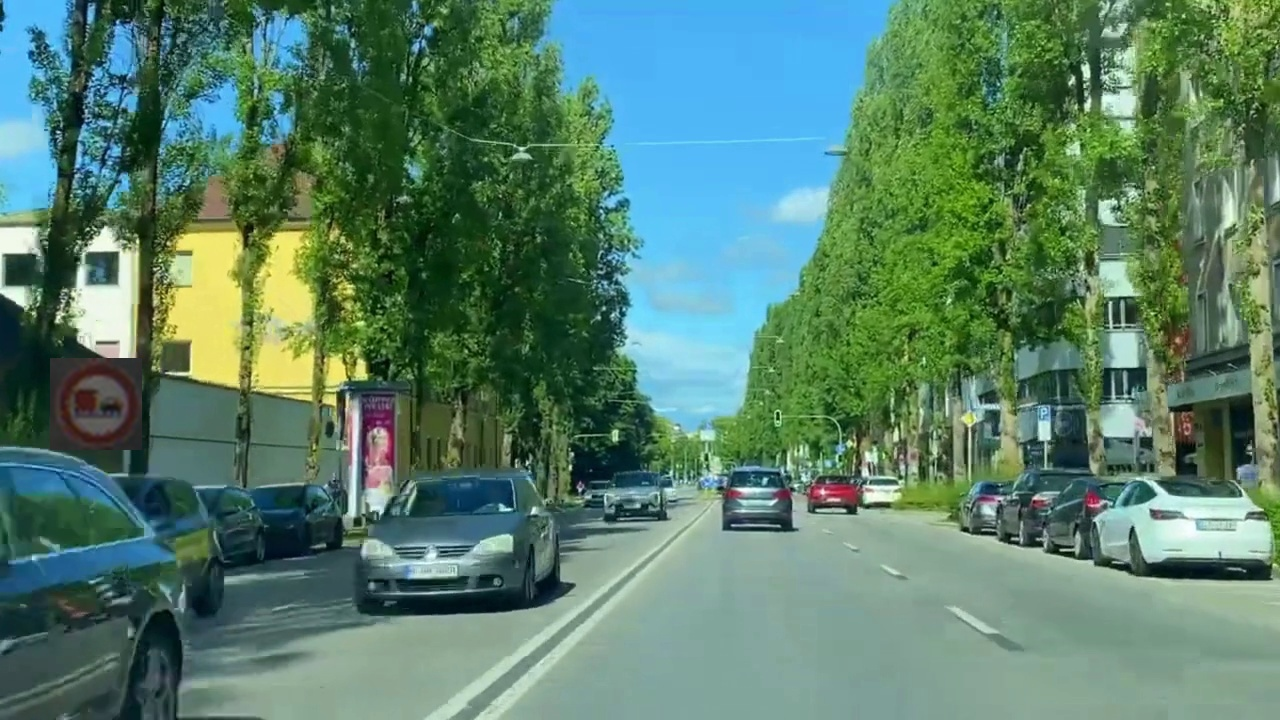No pass >3.5t: (50, 358, 142, 450)
